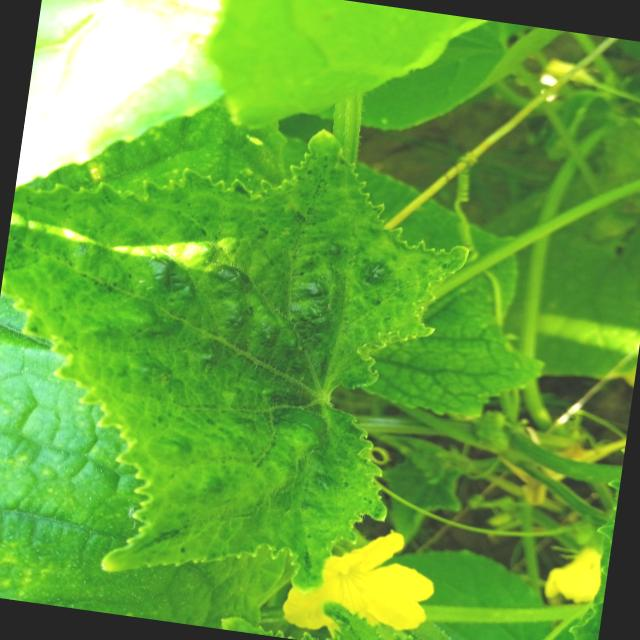cucumber_healthy: (0, 83, 487, 620), (0, 338, 311, 637)
